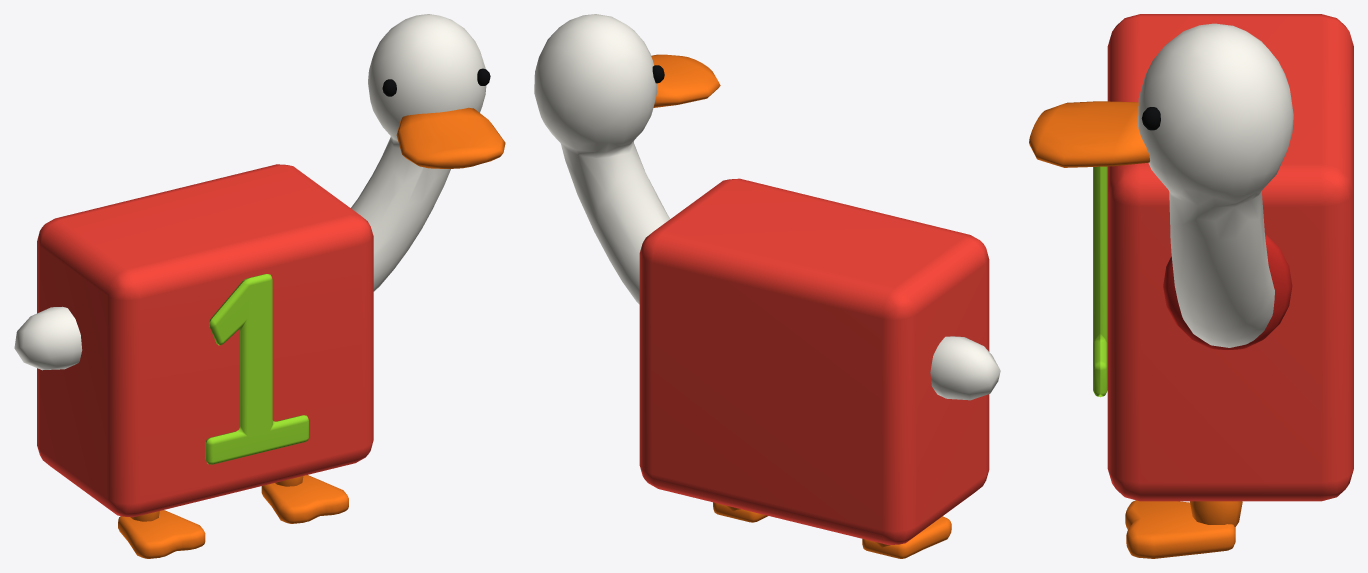
The model's file is duck-numberblock.glb.
The picture shows the model from 3 angles, left to right: view 1: azimuth 30°, elevation 25°; view 2: azimuth 150°, elevation 25°; view 3: azimuth 270°, elevation 25°; orthographic projection. The views are drawn at different scales.
Visible parts, largest first — view 1: duck-numberblock; view 2: duck-numberblock; view 3: duck-numberblock.
Part boxes in pixels (x1,y1,x2,y2): duck-numberblock: (14, 14, 505, 558); duck-numberblock: (534, 14, 1000, 558); duck-numberblock: (1029, 14, 1353, 558).
Size of the model in its own units: 1 by 0.9464 by 0.4622.
Materials: 1 (1 with a texture image).
